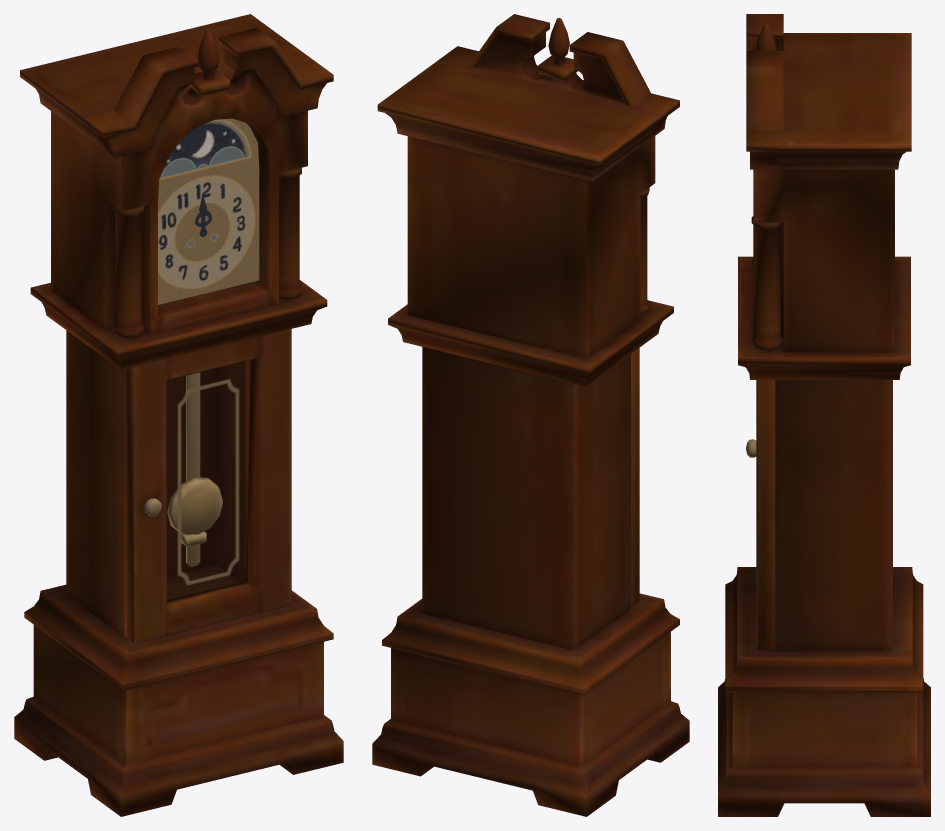
3 views of the same model, side by side, from view 1: azimuth 30°, elevation 25°; view 2: azimuth 150°, elevation 25°; view 3: azimuth 270°, elevation 25° (orthographic). The views are drawn at different scales.
Bounding box in the file's own units: 8.68 × 26.66 × 6.97.
3 materials, 3 textured.
